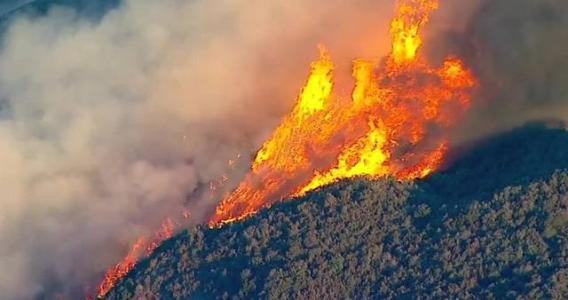fire: (298, 55, 336, 121), (336, 135, 391, 179), (392, 5, 426, 65)
smoke: (7, 18, 101, 283), (106, 9, 198, 224), (479, 5, 568, 130), (200, 1, 266, 145), (272, 3, 381, 54)
